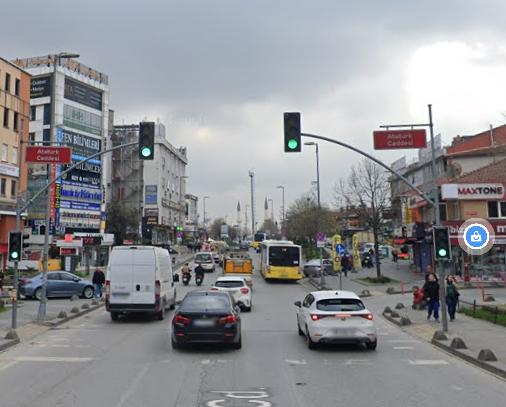greenlight: (282, 113, 300, 152), (139, 119, 153, 163), (434, 228, 449, 261), (8, 232, 22, 262)
